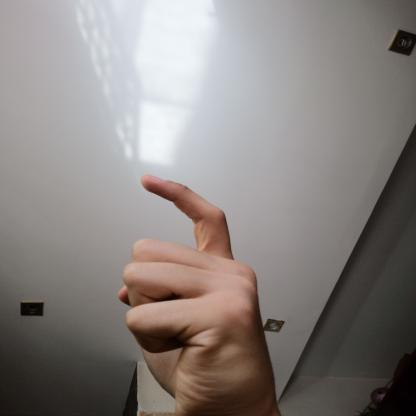RAA: (106, 163, 296, 413)
